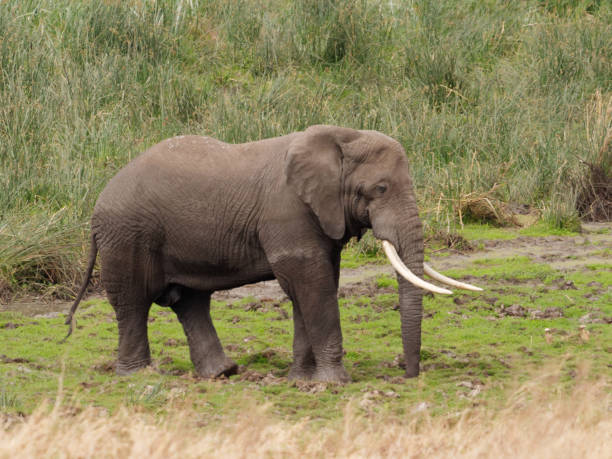africanelephant: (308, 123, 484, 309)
